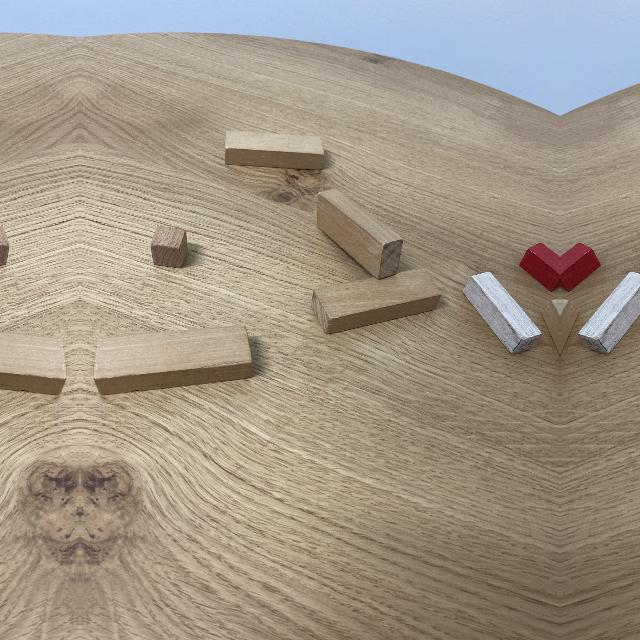block: (461, 270, 540, 356), (580, 270, 640, 356)
cube: (151, 223, 187, 268), (0, 223, 9, 266)
jenga: (93, 325, 255, 394), (312, 266, 443, 333), (315, 187, 401, 277), (0, 333, 67, 394), (224, 131, 324, 170), (540, 297, 559, 355), (561, 297, 580, 355)
red block: (518, 241, 560, 290), (560, 241, 602, 290)
